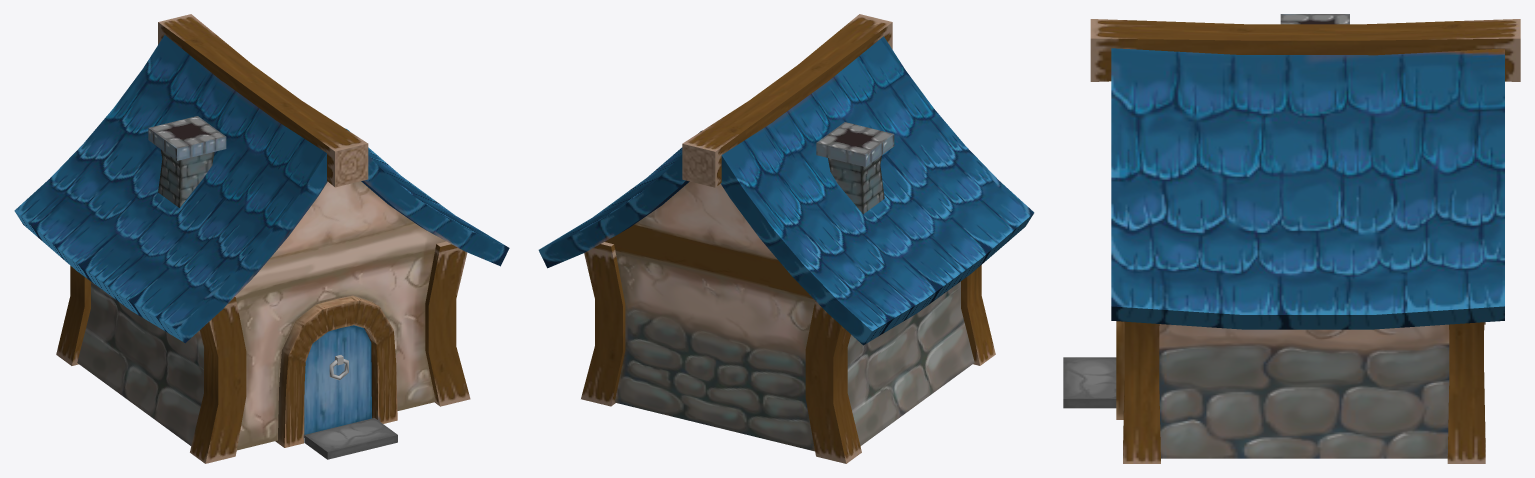
The model's file is house.fbx.
3 renders of one model, left to right at view 1: azimuth 30°, elevation 25°; view 2: azimuth 150°, elevation 25°; view 3: azimuth 270°, elevation 25°, orthographic. The views are drawn at different scales.
Parts seen in each view (by area): view 1: Roof, House, Planks_side, Planks_roof, Box010, Door, Chimney, Door_stone; view 2: Roof, House, Planks_side, Planks_roof, Chimney; view 3: Roof, House, Planks_roof, Planks_side, Door_stone, Box010, Chimney.
Part boxes in pixels (box(x1,y1,x2,y2)): Roof: box(14, 35, 509, 343); House: box(77, 181, 445, 450); Planks_side: box(56, 241, 470, 463); Planks_roof: box(158, 14, 368, 187); Box010: box(275, 295, 397, 447); Door: box(304, 325, 371, 434); Chimney: box(148, 116, 226, 207); Door_stone: box(304, 418, 397, 459); Roof: box(538, 36, 1034, 345); House: box(605, 181, 974, 451); Planks_side: box(581, 242, 995, 463); Planks_roof: box(682, 14, 892, 187); Chimney: box(816, 122, 894, 214); Roof: box(1111, 48, 1504, 329); House: box(1159, 324, 1449, 458); Planks_roof: box(1090, 19, 1520, 81); Planks_side: box(1123, 321, 1485, 463); Door_stone: box(1063, 357, 1116, 408); Box010: box(1116, 321, 1124, 419); Chimney: box(1280, 14, 1349, 24).
Size of the model in its own units: 6000 by 5082 by 5866.
Materials: 1 (1 with a texture image).
